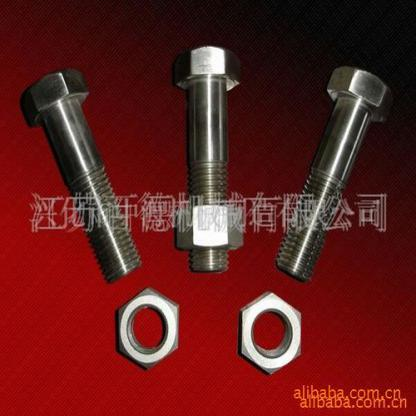FOD: (273, 63, 396, 284), (20, 65, 142, 286), (173, 43, 241, 274), (237, 288, 304, 376), (114, 286, 182, 371), (174, 200, 246, 254)
